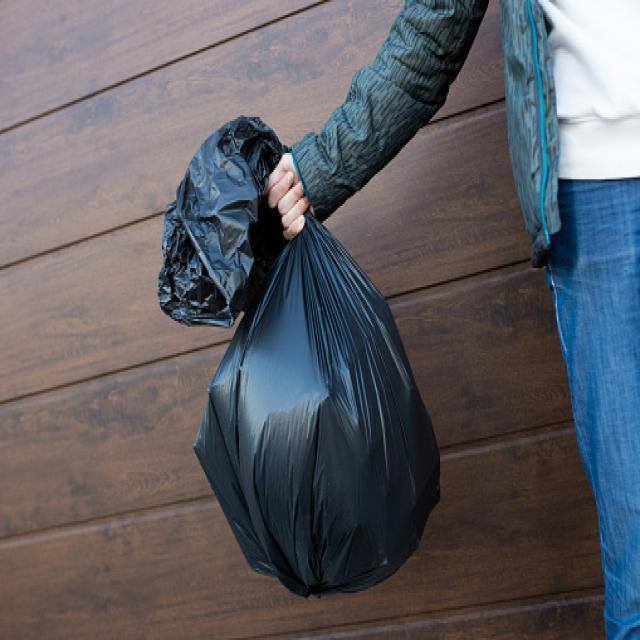Vinyl: (150, 103, 458, 602)
